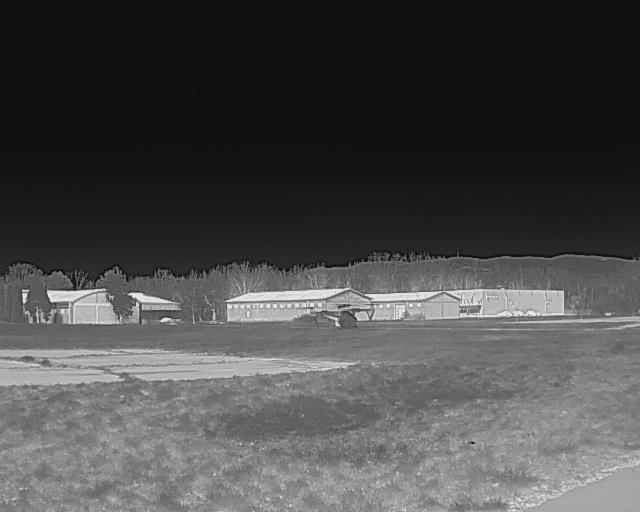drone: (293, 282, 384, 344)
